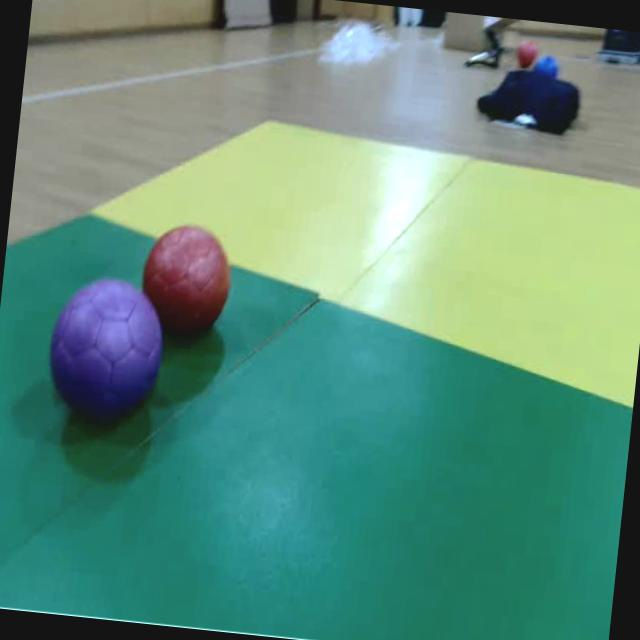blue_ball: (536, 54, 560, 78)
purple_ball: (40, 284, 166, 442)
red_ball: (152, 222, 236, 342), (514, 38, 538, 69)
